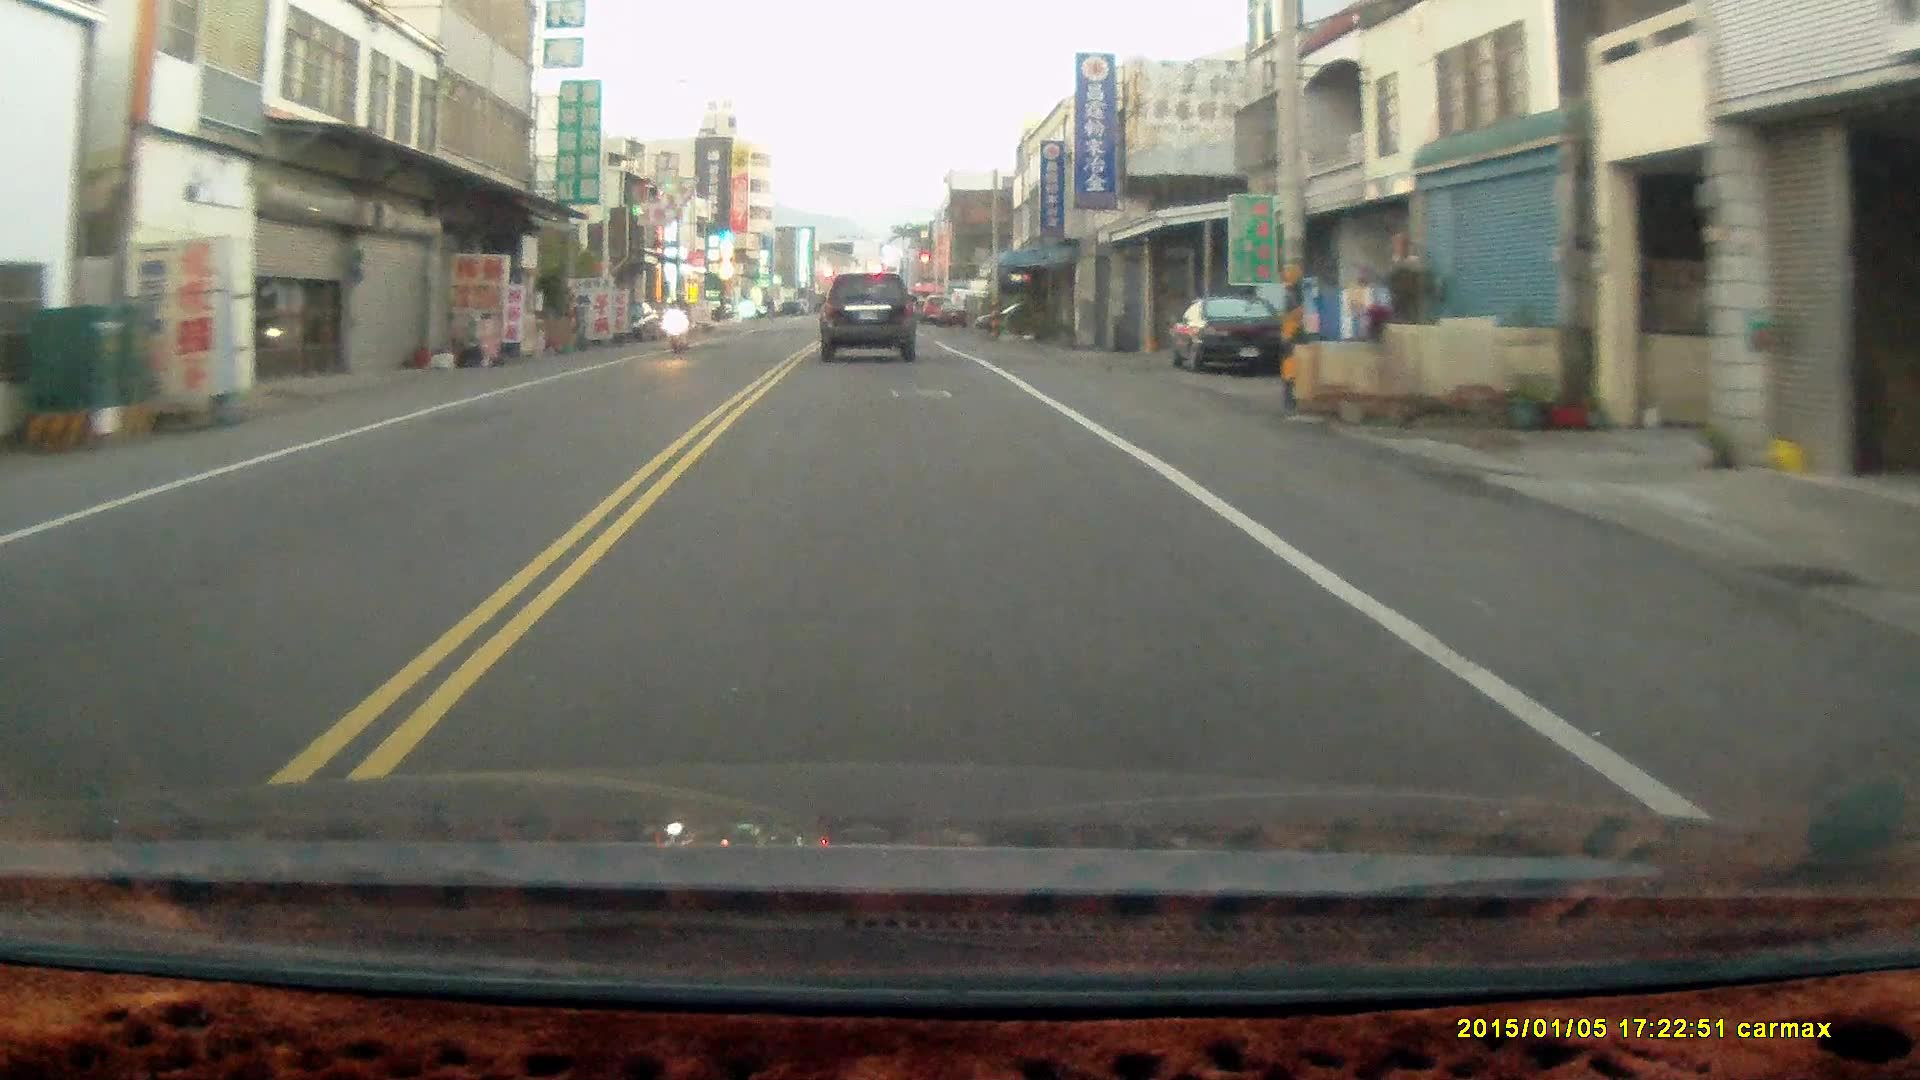rider: (663, 292, 690, 354)
vehicle: (1172, 298, 1296, 379), (822, 274, 920, 365)
